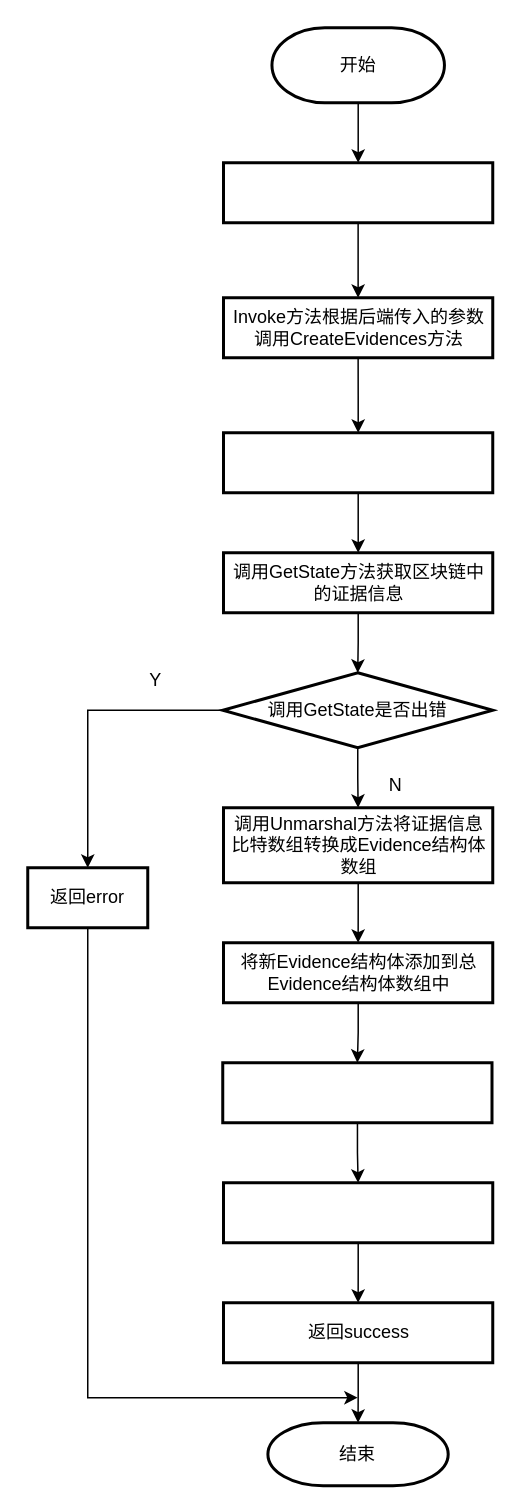
This 519x1512 diagram has some shape labels left out. The box of each missing label's shape, as (x1, y1, x2, y2) in pixels:
智能合约调用Invoke方法: (221, 160, 494, 224)
根据后端参数创建Evidence结构体数组: (221, 430, 494, 494)
调用Marshal方法将结构体转换成比特数组: (220, 1060, 493, 1124)
调用PutState方法将比特数组写入账本: (221, 1180, 494, 1244)
